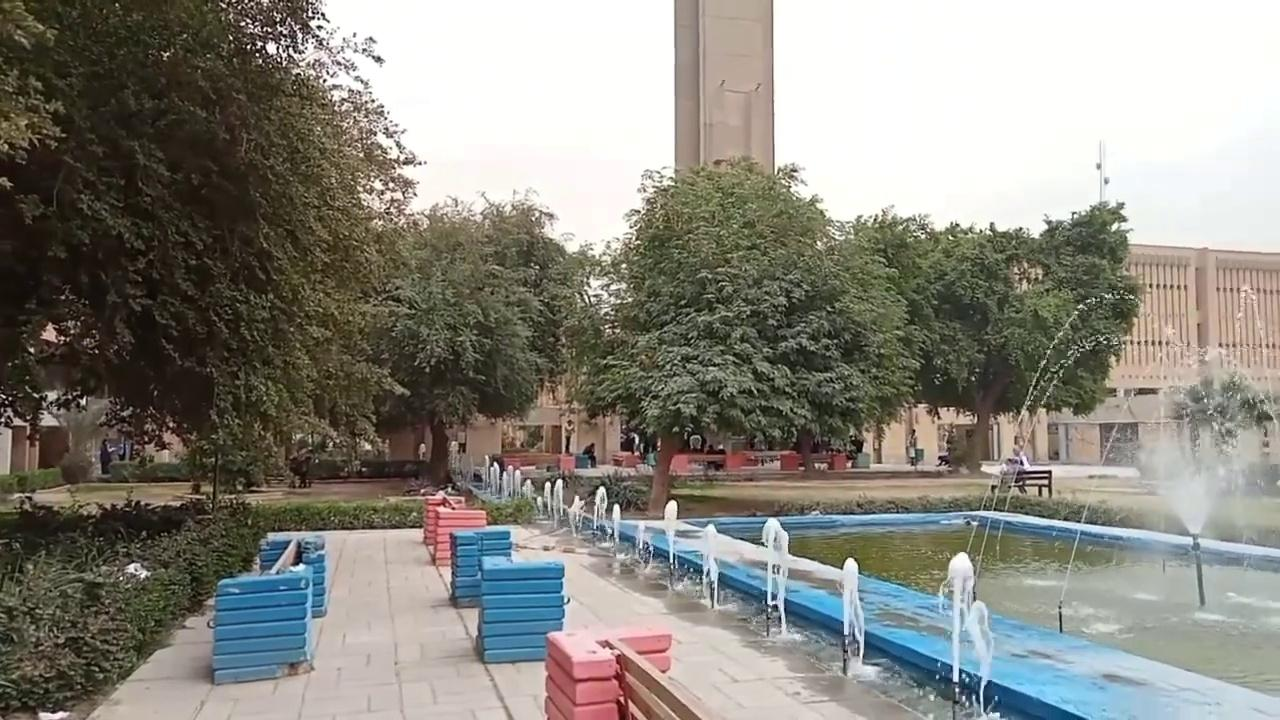car: (935, 451, 950, 467)
fountain: (447, 289, 1278, 717), (936, 550, 997, 717), (838, 556, 865, 676)
person: (1003, 443, 1030, 494), (99, 438, 112, 474), (906, 427, 918, 466), (582, 441, 596, 468)
tree: (0, 0, 425, 497), (573, 153, 916, 516), (845, 197, 1144, 477), (358, 187, 575, 492), (832, 206, 968, 468), (1166, 354, 1278, 476)
